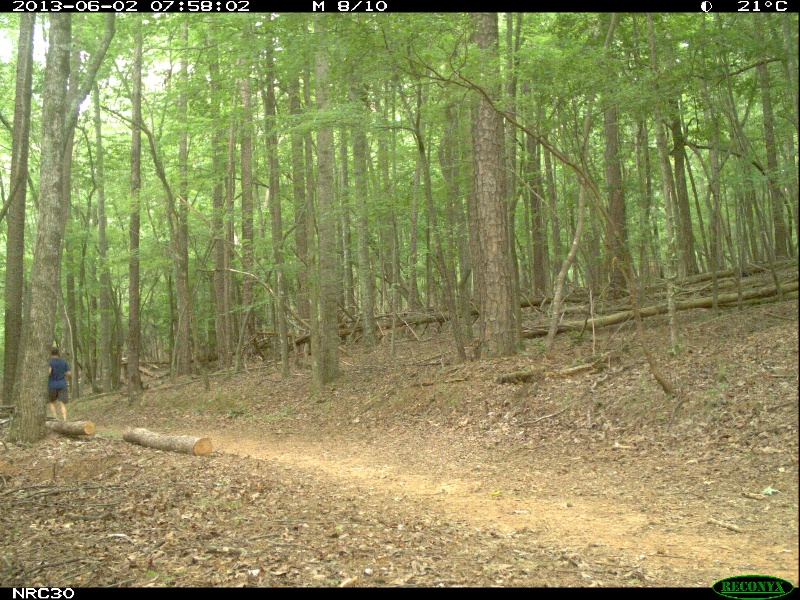human: (47, 346, 69, 430)
human legs: (47, 384, 69, 425)
